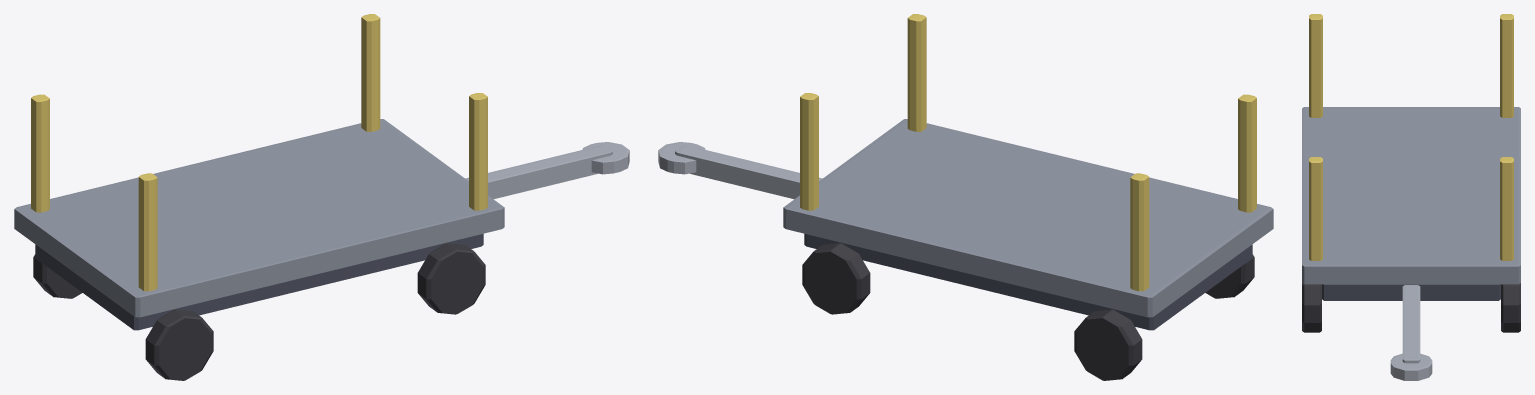
File: doli.glb
3 renders of one model, left to right at view 1: azimuth 30°, elevation 25°; view 2: azimuth 150°, elevation 25°; view 3: azimuth 270°, elevation 25°, orthographic. The views are drawn at different scales.
Visible parts, largest first — view 1: Doli; view 2: Doli; view 3: Doli.
Boxes of the visible parts, box(x1,y1,x2,y2) form: Doli: box(14, 14, 629, 380); Doli: box(658, 14, 1273, 380); Doli: box(1302, 14, 1520, 380).
Bounding box in the file's own units: 2.83 × 1.01 × 1.1.
